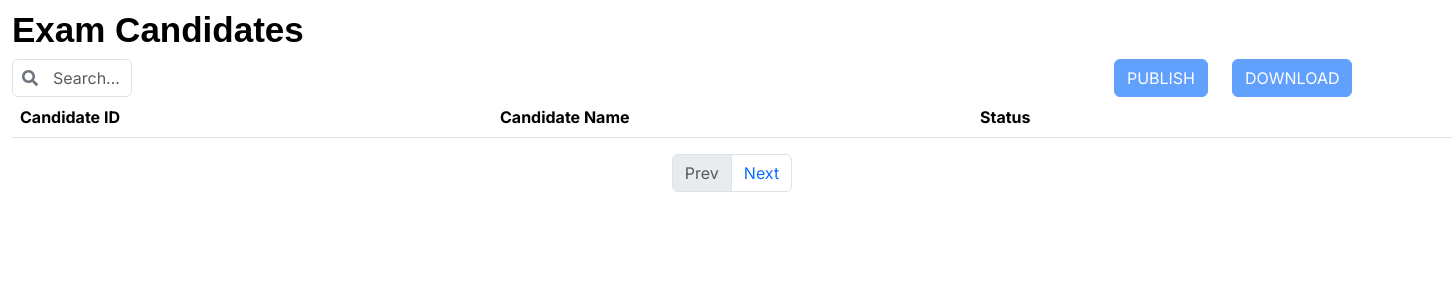
Test: EvaluatedCandidateList Component › filters candidates by search term
The width and height of the screenshot is (1452, 305).
Type "Doe" into the field with placeholder "Search..." at (72, 78), box [12,59,132,97]
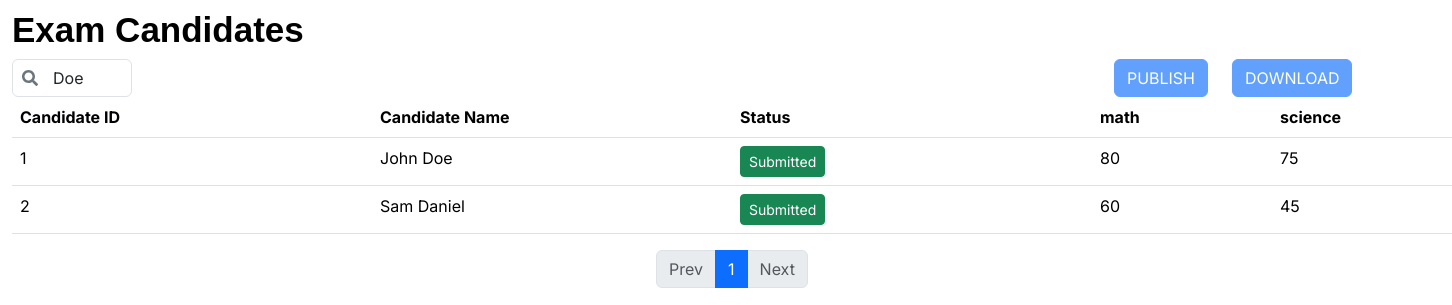
Now the text "John Doe" is shown, box [372,138,732,186]
